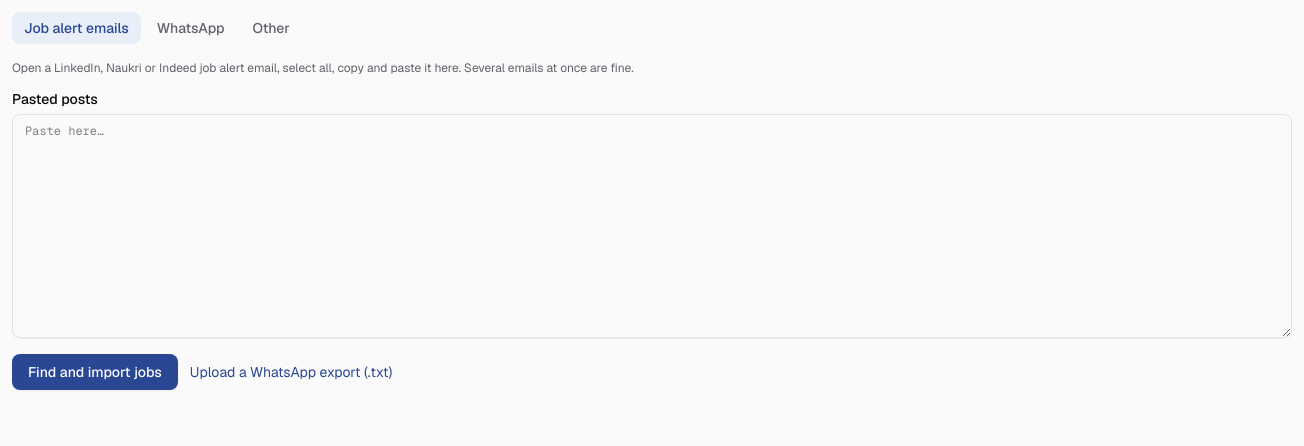
Test: BulkImportForm › asks for text before importing
Click the button "Find and import jobs". click: (95, 372)
box: [12,354,178,390]
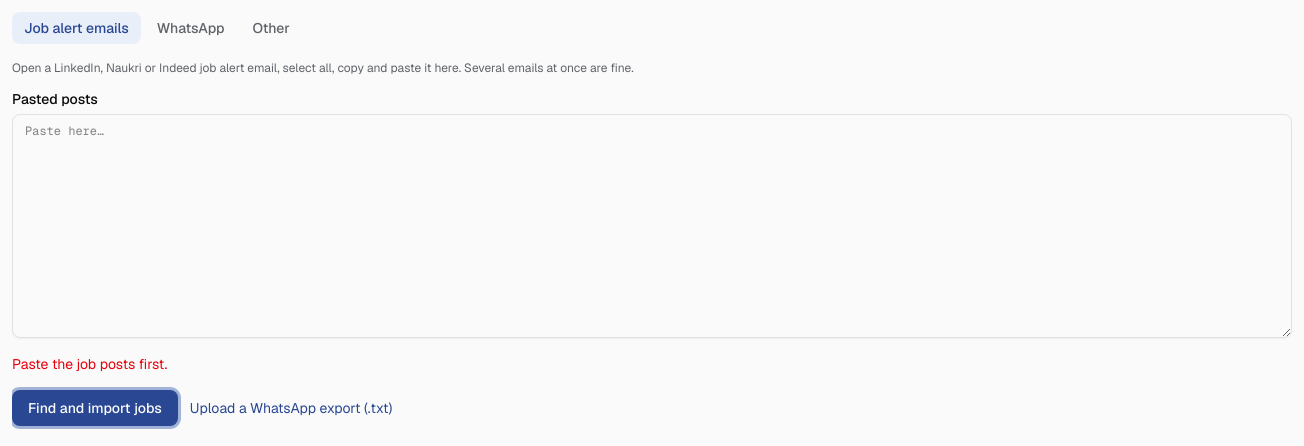
Result: the message reads "Paste the job posts first." at [12,355,167,373]
